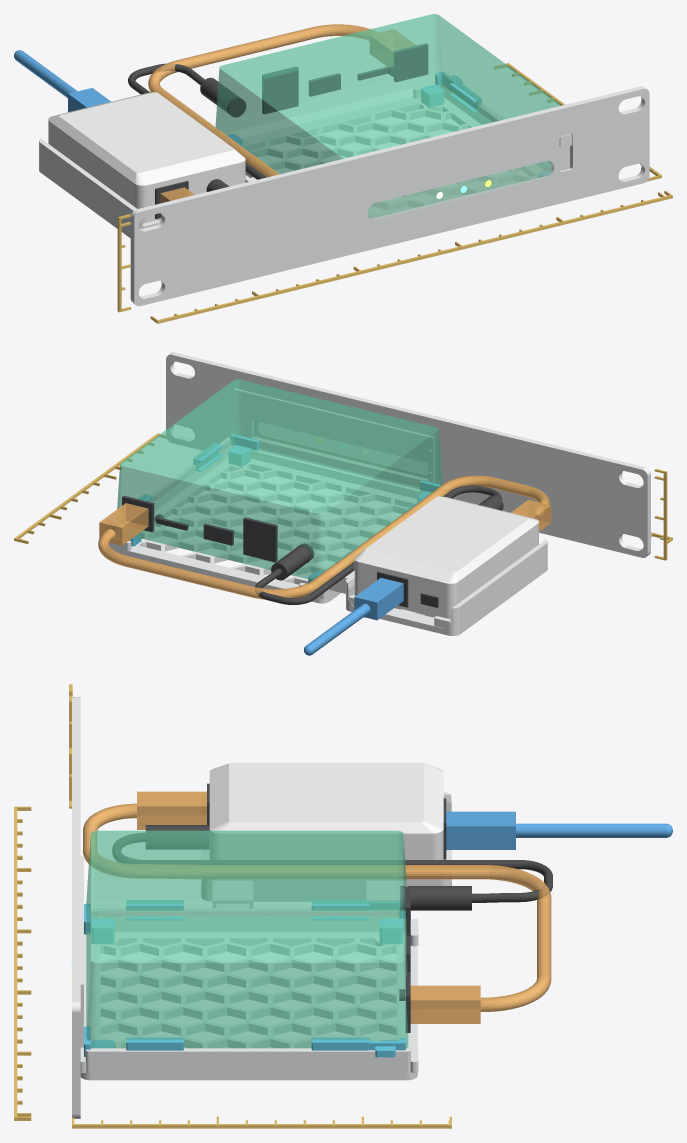
Rendered from home-assistant-green-rack-balanced.glb.
The picture shows the model from 3 angles, top to bottom: view 1: azimuth 30°, elevation 25°; view 2: azimuth 150°, elevation 25°; view 3: azimuth 270°, elevation 25°; orthographic projection. The views are drawn at different scales.
Parts seen in each view (by area): view 1: White rack mount, Home Assistant Green, TP-Link TL-PD30G-M2, Green tray — standard, Ethernet cable — bend-radius warning, 10 mm dimension rulers, Home Assistant Green connector faces, LED window insert, TP-Link cradle side walls, DC cable, Incoming PoE cable, Green retention — segmented rails + rear latch (+4 smaller); view 2: Home Assistant Green, White rack mount, Green tray — standard, TP-Link TL-PD30G-M2, Ethernet cable — bend-radius warning, LED shutter retainer, Home Assistant Green connector faces, TP-Link cradle side walls, LED window insert, DC cable, Incoming PoE cable, Green retention — segmented rails + rear latch (+3 smaller); view 3: Home Assistant Green, Green tray — standard, TP-Link TL-PD30G-M2, Ethernet cable — bend-radius warning, DC cable, Green retention — segmented rails + rear latch, White rack mount, Incoming PoE cable, 10 mm dimension rulers, TP-Link cradle side walls, Home Assistant Green connector faces, TP-Link cradle floor (+1 smaller).
Boxes of the visible parts, x1=… form: White rack mount: x1=130, y1=86, x2=649, y2=306; Home Assistant Green: x1=215, y1=14, x2=560, y2=217; TP-Link TL-PD30G-M2: x1=48, y1=92, x2=245, y2=223; Green tray — standard: x1=226, y1=83, x2=503, y2=177; Ethernet cable — bend-radius warning: x1=148, y1=24, x2=415, y2=203; 10 mm dimension rulers: x1=117, y1=63, x2=672, y2=323; Home Assistant Green connector faces: x1=227, y1=43, x2=428, y2=117; LED window insert: x1=367, y1=160, x2=554, y2=219; TP-Link cradle side walls: x1=39, y1=138, x2=253, y2=231; DC cable: x1=128, y1=63, x2=266, y2=191; Incoming PoE cable: x1=14, y1=50, x2=110, y2=112; Green retention — segmented rails + rear latch: x1=216, y1=72, x2=550, y2=176; Home Assistant Green: x1=117, y1=379, x2=442, y2=580; White rack mount: x1=166, y1=352, x2=650, y2=593; Green tray — standard: x1=109, y1=437, x2=422, y2=603; TP-Link TL-PD30G-M2: x1=354, y1=496, x2=538, y2=619; Ethernet cable — bend-radius warning: x1=98, y1=475, x2=551, y2=599; LED shutter retainer: x1=234, y1=388, x2=434, y2=482; Home Assistant Green connector faces: x1=122, y1=496, x2=313, y2=562; TP-Link cradle side walls: x1=346, y1=539, x2=547, y2=630; LED window insert: x1=254, y1=421, x2=427, y2=477; DC cable: x1=255, y1=485, x2=503, y2=604; Incoming PoE cable: x1=304, y1=578, x2=403, y2=655; Green retention — segmented rails + rear latch: x1=129, y1=434, x2=440, y2=582; Home Assistant Green: x1=86, y1=830, x2=408, y2=1048; Green tray — standard: x1=80, y1=908, x2=418, y2=1080; TP-Link TL-PD30G-M2: x1=209, y1=762, x2=443, y2=859; Ethernet cable — bend-radius warning: x1=83, y1=791, x2=551, y2=1023; DC cable: x1=112, y1=825, x2=552, y2=910; Green retention — segmented rails + rear latch: x1=84, y1=900, x2=405, y2=1057; White rack mount: x1=72, y1=697, x2=406, y2=1118; Incoming PoE cable: x1=446, y1=811, x2=672, y2=849; 10 mm dimension rulers: x1=14, y1=684, x2=451, y2=1128; TP-Link cradle side walls: x1=201, y1=792, x2=451, y2=893; Home Assistant Green connector faces: x1=399, y1=886, x2=410, y2=1032; TP-Link cradle floor: x1=201, y1=850, x2=451, y2=901.
Size of what is drawn, in the model's own units: 268 by 44.45 by 227.
